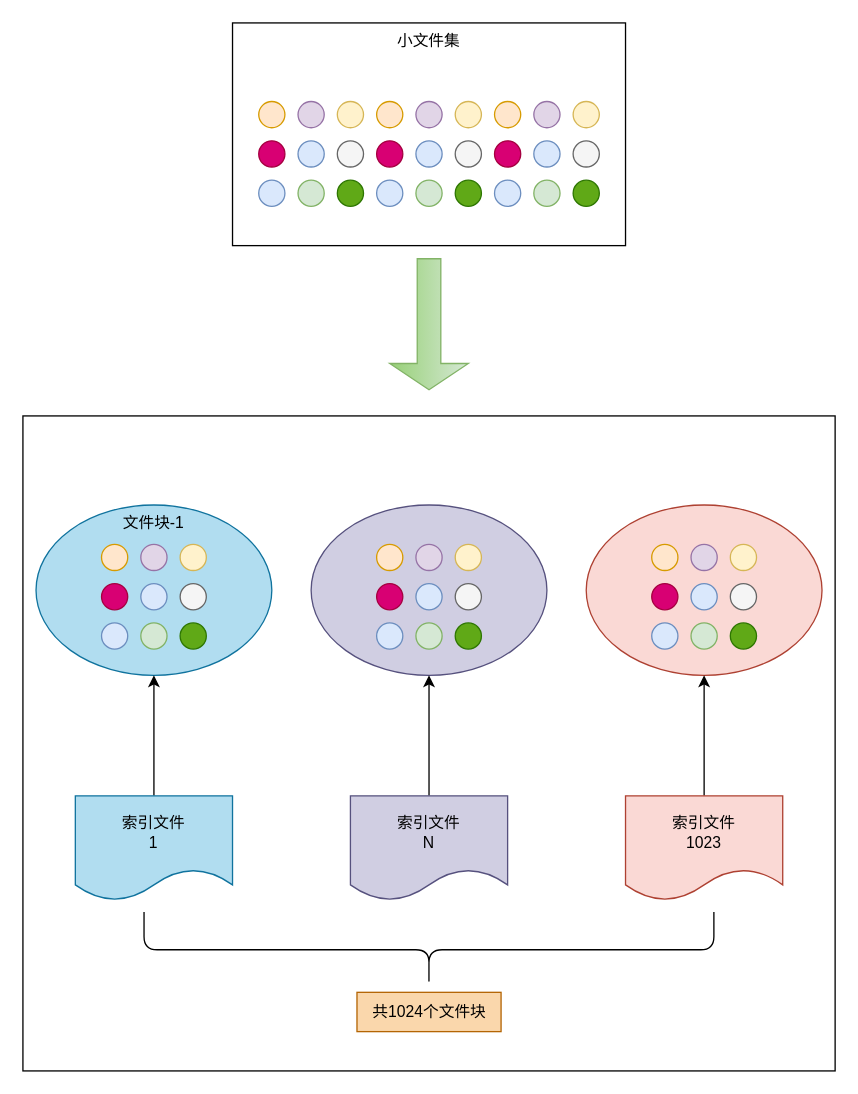
Some shapes in this 858 by 1094 pixel diagram are drawn without their labels. Each missing label, with the box of its shape:
合并成大文件块: (22, 415, 835, 1071)
文件块-1023: (585, 504, 822, 675)
文件块-N: (310, 504, 547, 675)
